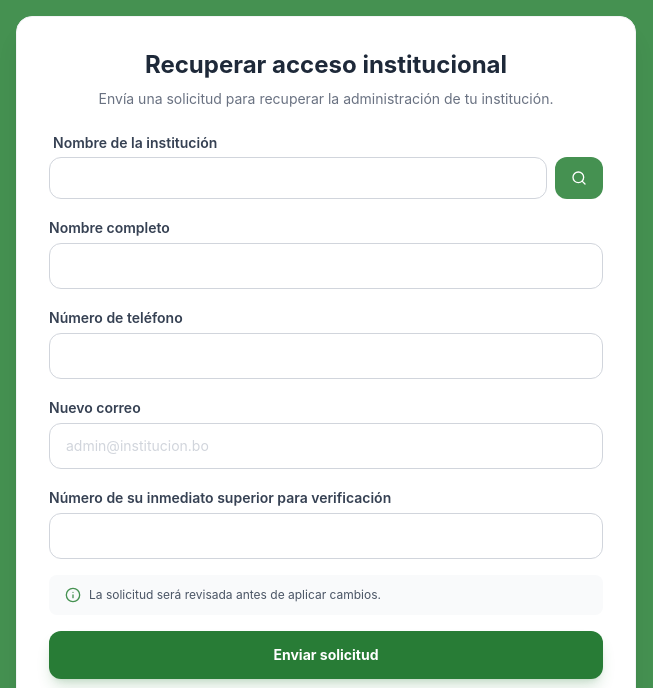
Test: pantallas Superadmin › valida campos obligatorios de recuperación institucional pública y conserva volver al login
The width and height of the screenshot is (653, 688).
Click the button "Enviar solicitud" at (326, 655), box [49, 631, 603, 679]
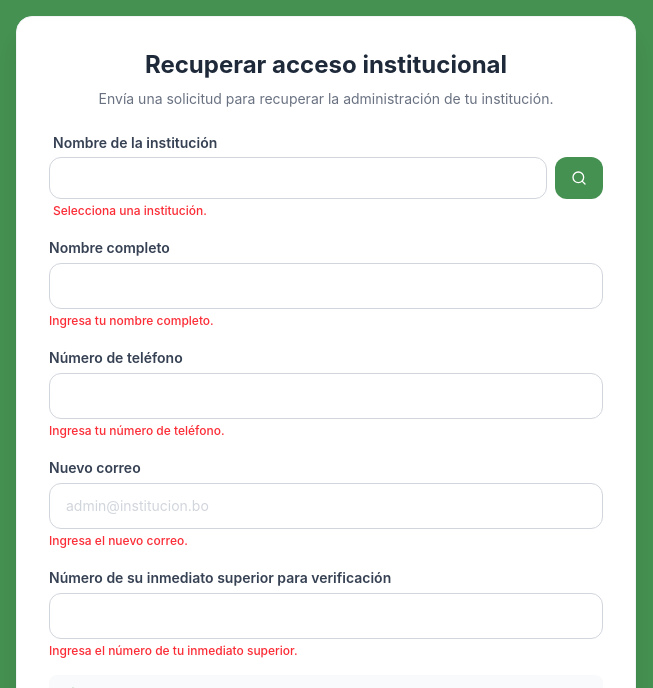
Now the number of messages is 5, box [53, 203, 207, 218]; [49, 313, 214, 328]; [49, 423, 225, 438]; [49, 533, 188, 548]; [49, 643, 298, 658]
Now the text "Selecciona una institución." is shown, box [53, 203, 207, 218]
Now the text "Ingresa tu nombre completo." is shown, box [49, 313, 214, 328]
